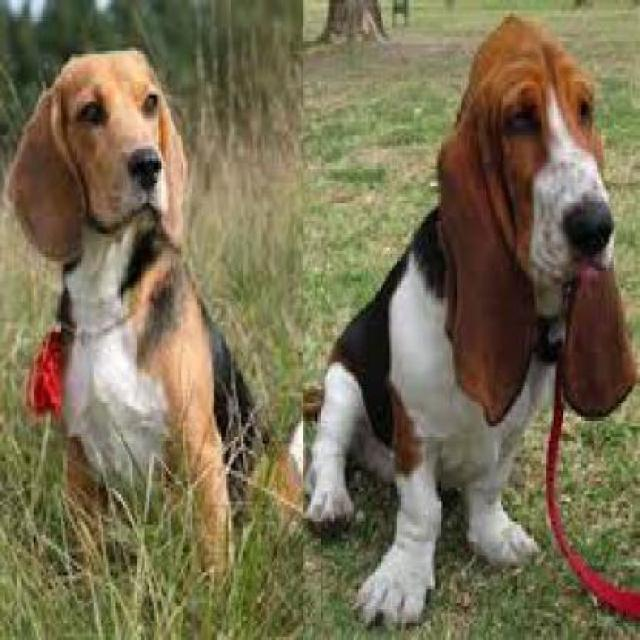Dog: (298, 11, 637, 632), (6, 41, 300, 578)
